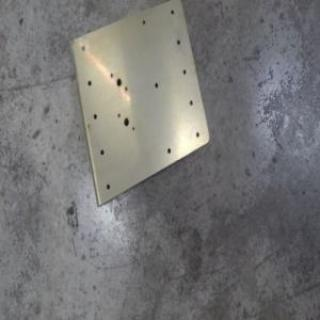MetalSheettrack_idkeyframe: (66, 0, 210, 210)
